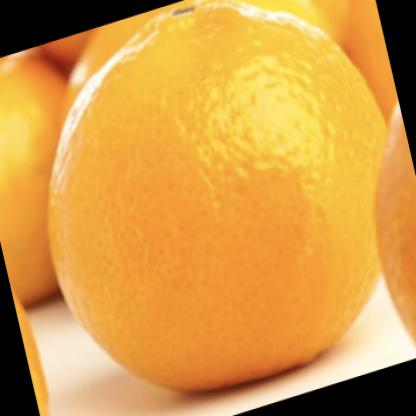fresh: (52, 7, 385, 389)
